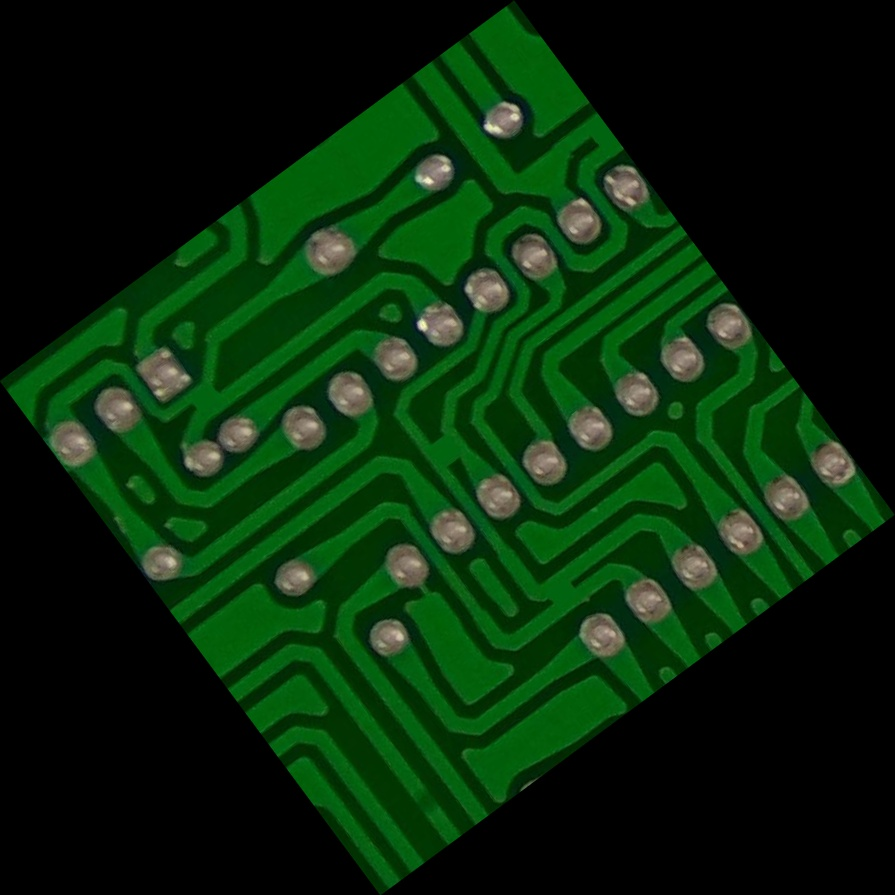short: (409, 410, 486, 486)
